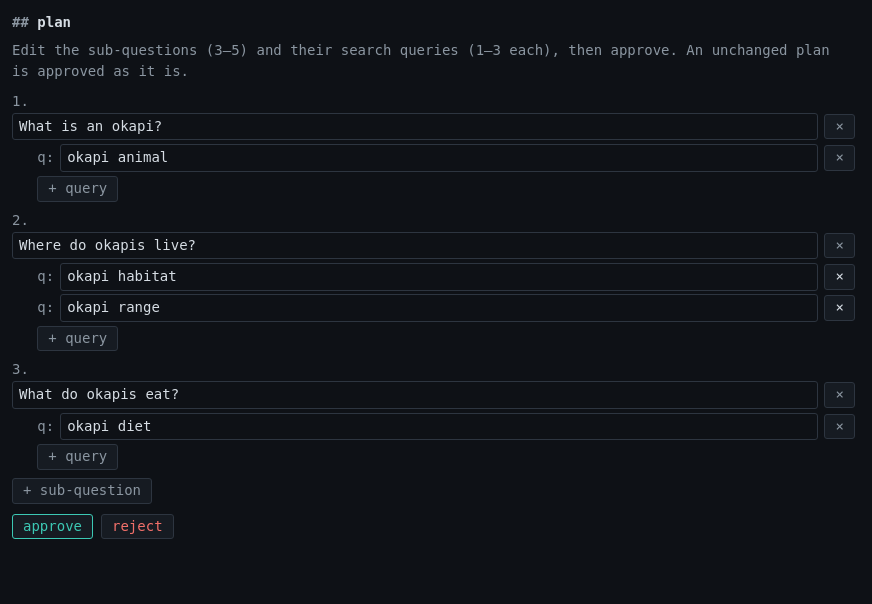
Test: PlanEditor › validates like the server before sending: duplicate query and short question
The image size is (872, 604).
Replace the text in the field named "Sub-question 2 query 2" with "  OKAPI   habitat " at (439,308), box [60, 294, 818, 322]
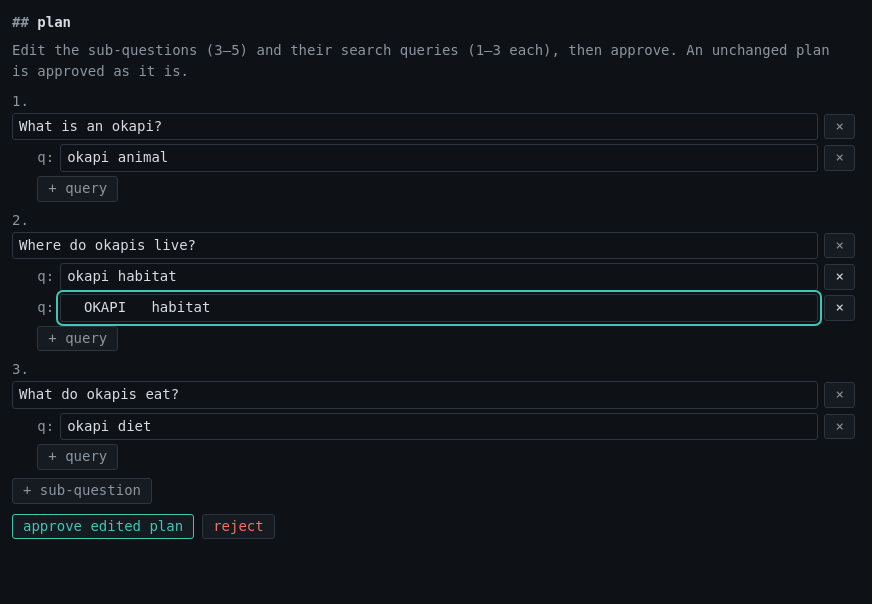
Replace the text in the field named "Sub-question 3" with "Diet" at (415,395), box [12, 381, 818, 409]
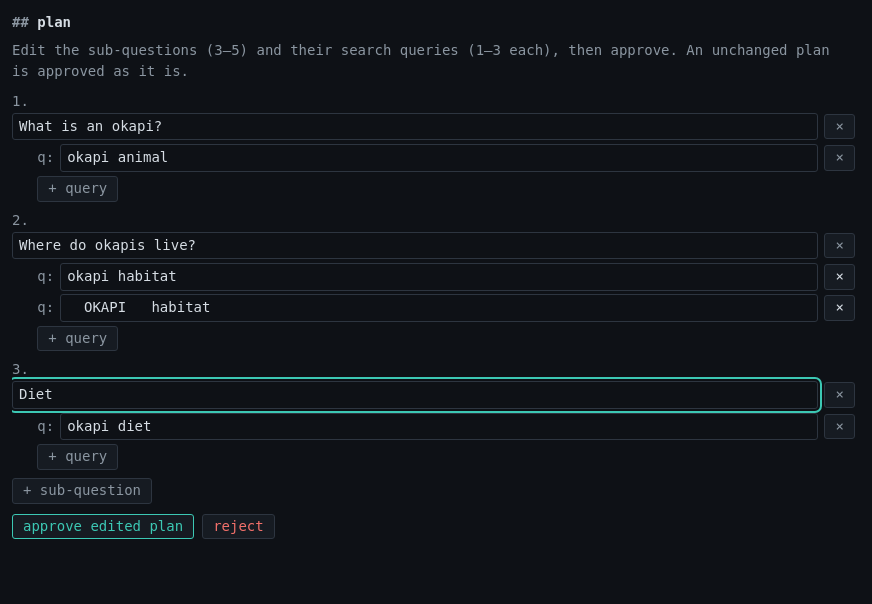
Click the button "approve edited plan".
click(103, 527)  # box [12, 514, 194, 539]
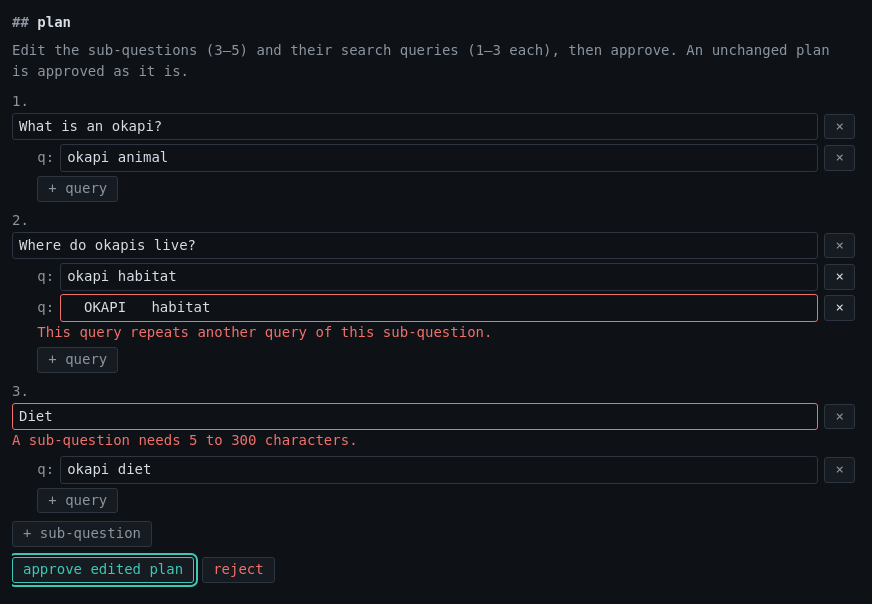
Expected: the text "This query repeats another query of this sub-question." is shown, [37, 324, 492, 340]
Expected: the text "A sub-question needs 5 to 300 characters." is shown, [12, 432, 358, 448]
